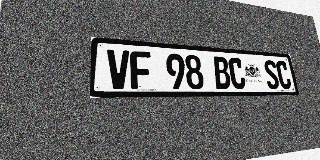8: (184, 54, 204, 89)
9: (166, 53, 187, 89)
B: (212, 56, 232, 89)
C: (228, 57, 246, 89), (275, 61, 292, 89)
F: (130, 51, 152, 89)
S: (263, 60, 280, 89)
V: (107, 49, 130, 89)
